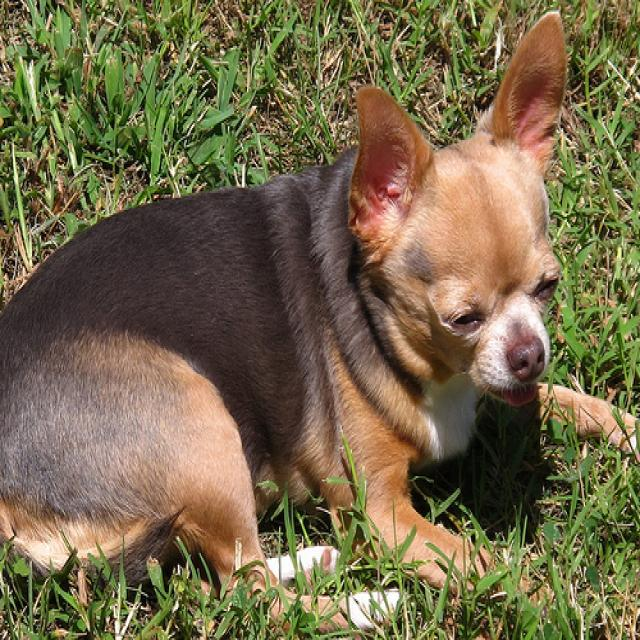dog-chihuahua: (1, 2, 637, 637)
